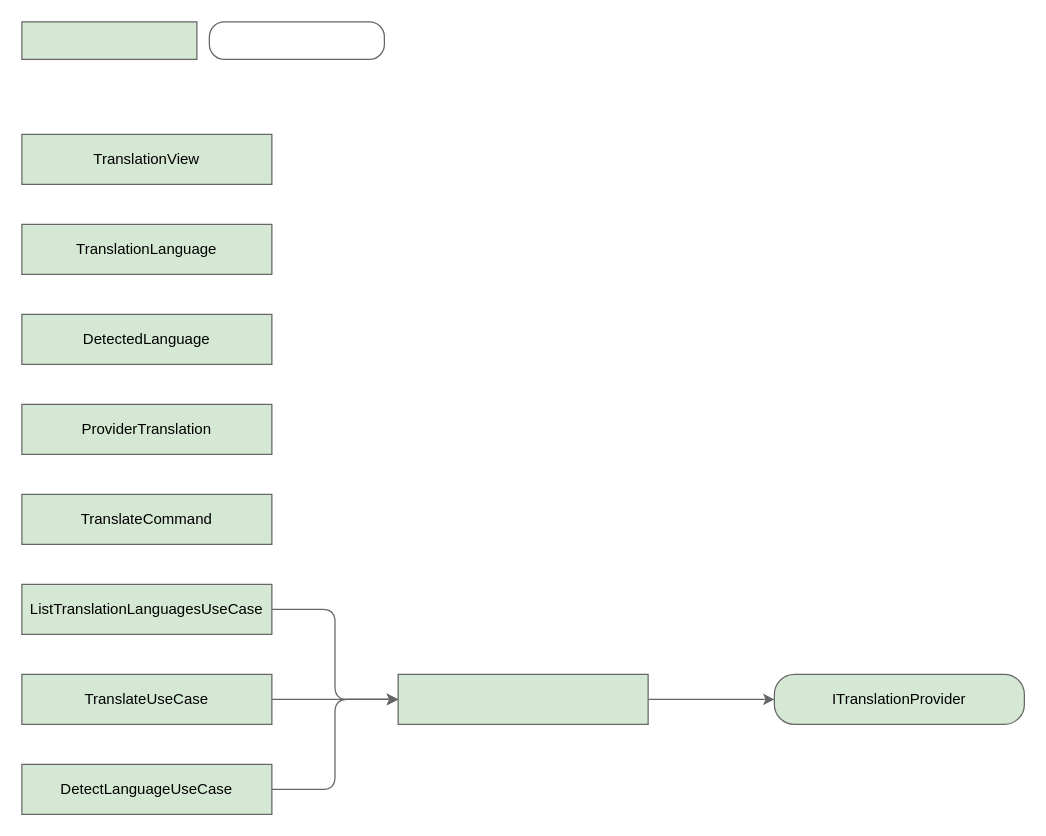
Image size: 1046x836. Some labels were removed from this diagram. The centre of each missing label's shape, as x and y in pixels:
Application: (109,40)
Port (interface): (296,40)
TranslationService: (522,698)
